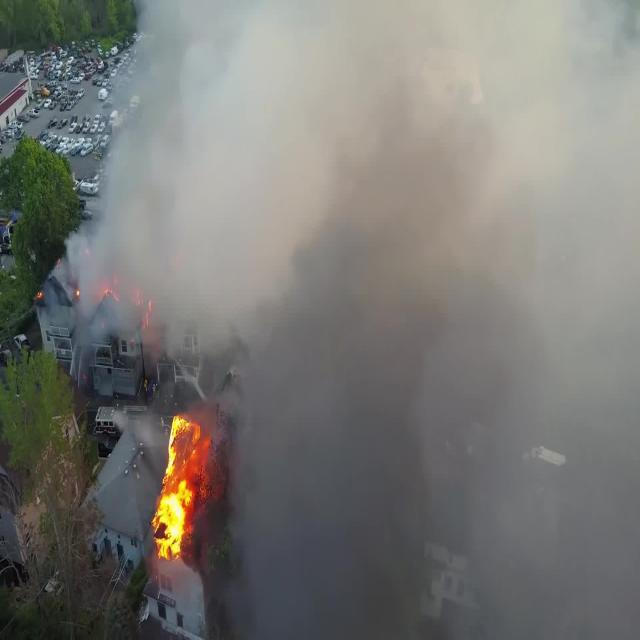Fire: (152, 408, 209, 563)
Smoke: (133, 4, 640, 332), (239, 336, 640, 640)
